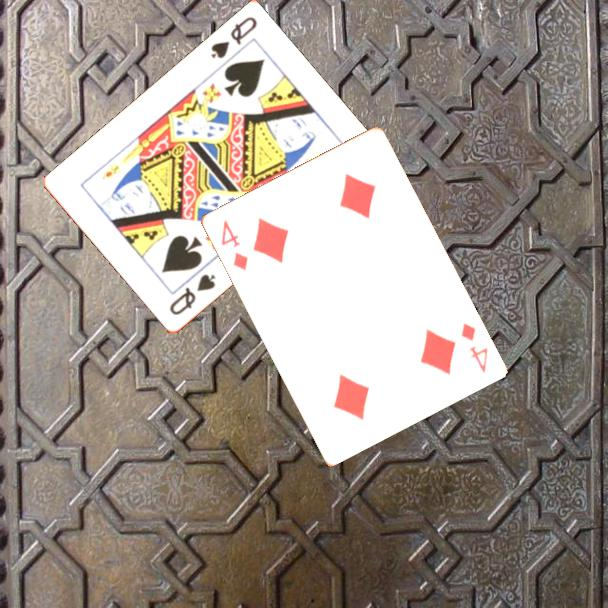d04: (217, 217, 251, 273), (457, 319, 490, 375)
s12: (207, 14, 260, 62), (166, 271, 218, 319)
